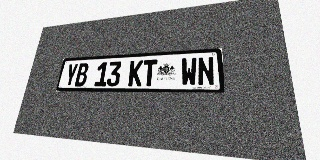1: (94, 62, 109, 86)
3: (106, 61, 122, 86)
B: (74, 63, 89, 86)
K: (128, 60, 143, 86)
N: (197, 56, 215, 86)
T: (142, 59, 157, 86)
W: (181, 57, 197, 86)
Y: (64, 63, 79, 86)
